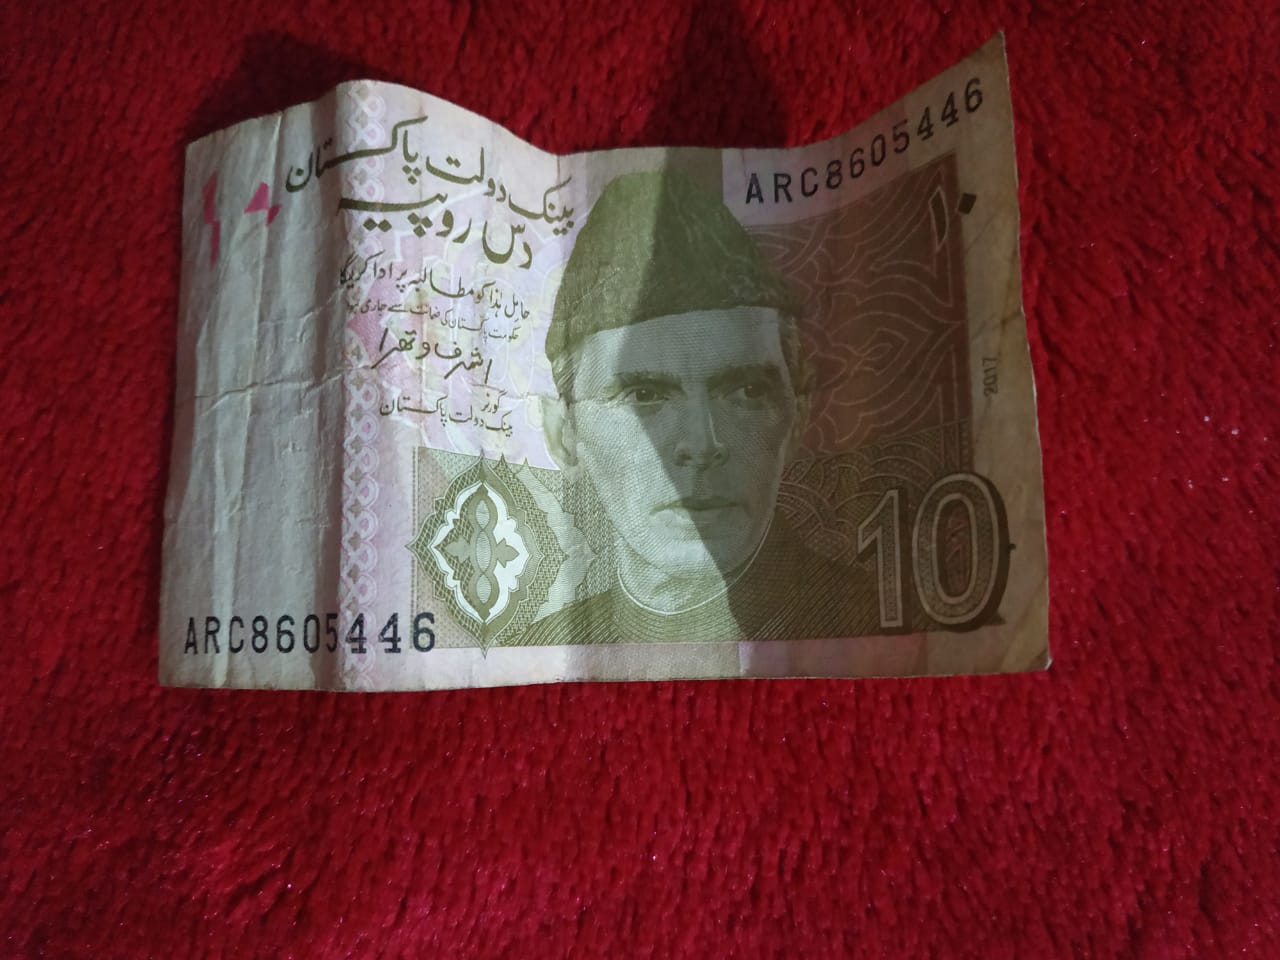10 rupee: (168, 69, 1051, 680)
